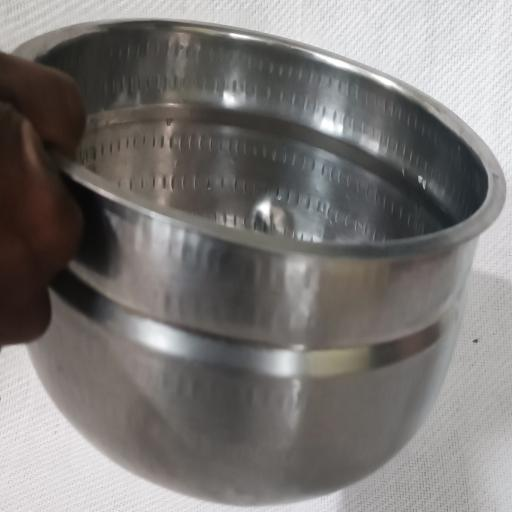vessel: (16, 21, 505, 504)
